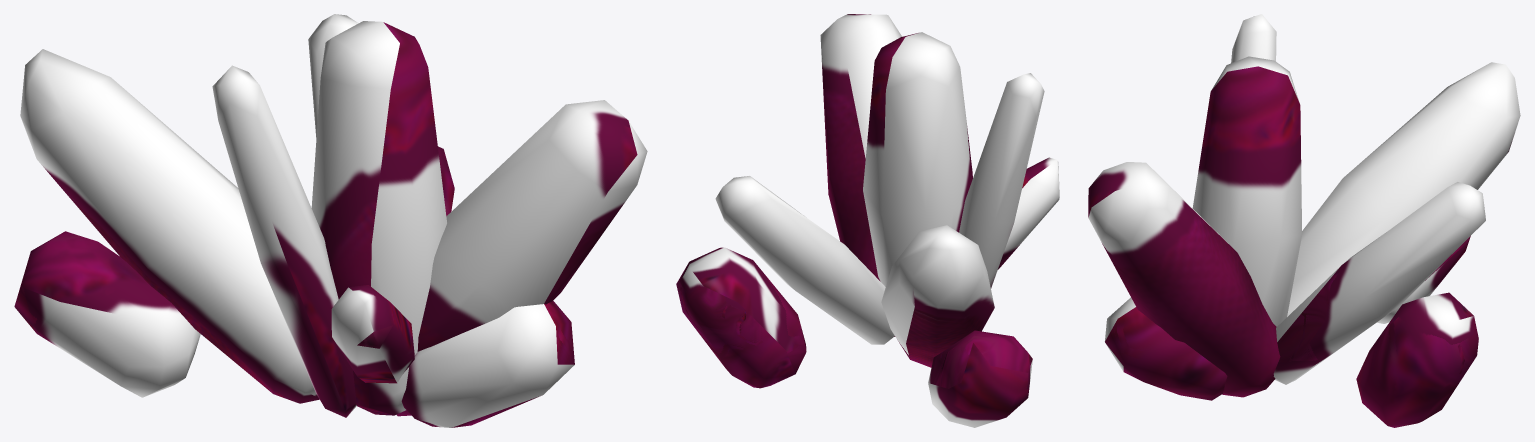
Rendered from Coral03.fbx.
3 renders of one model, left to right at view 1: azimuth 30°, elevation 25°; view 2: azimuth 150°, elevation 25°; view 3: azimuth 270°, elevation 25°, orthographic. The views are drawn at different scales.
Visible parts, largest first — view 1: Coral03; view 2: Coral03; view 3: Coral03.
Boxes of the visible parts, x1,y1,x2,y2 form: Coral03: [14, 14, 647, 427]; Coral03: [676, 14, 1059, 427]; Coral03: [1088, 14, 1520, 427].
Bounding box in the file's own units: 65.76 × 56.49 × 69.17.
